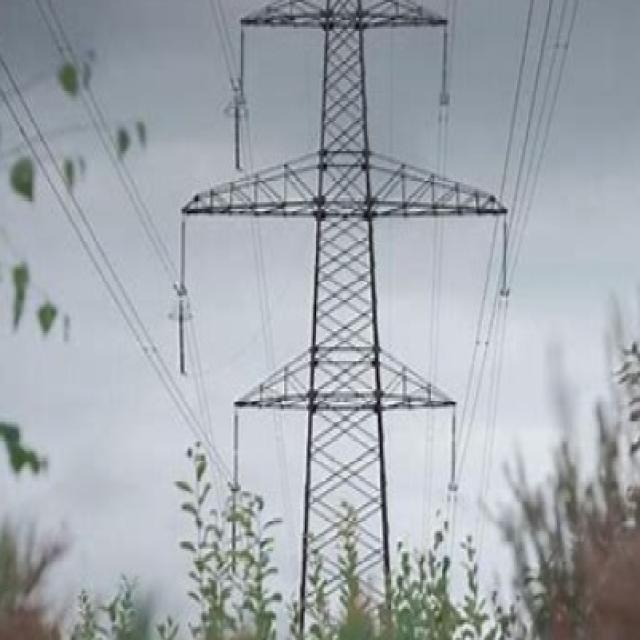utility poles: (169, 370, 510, 639)
